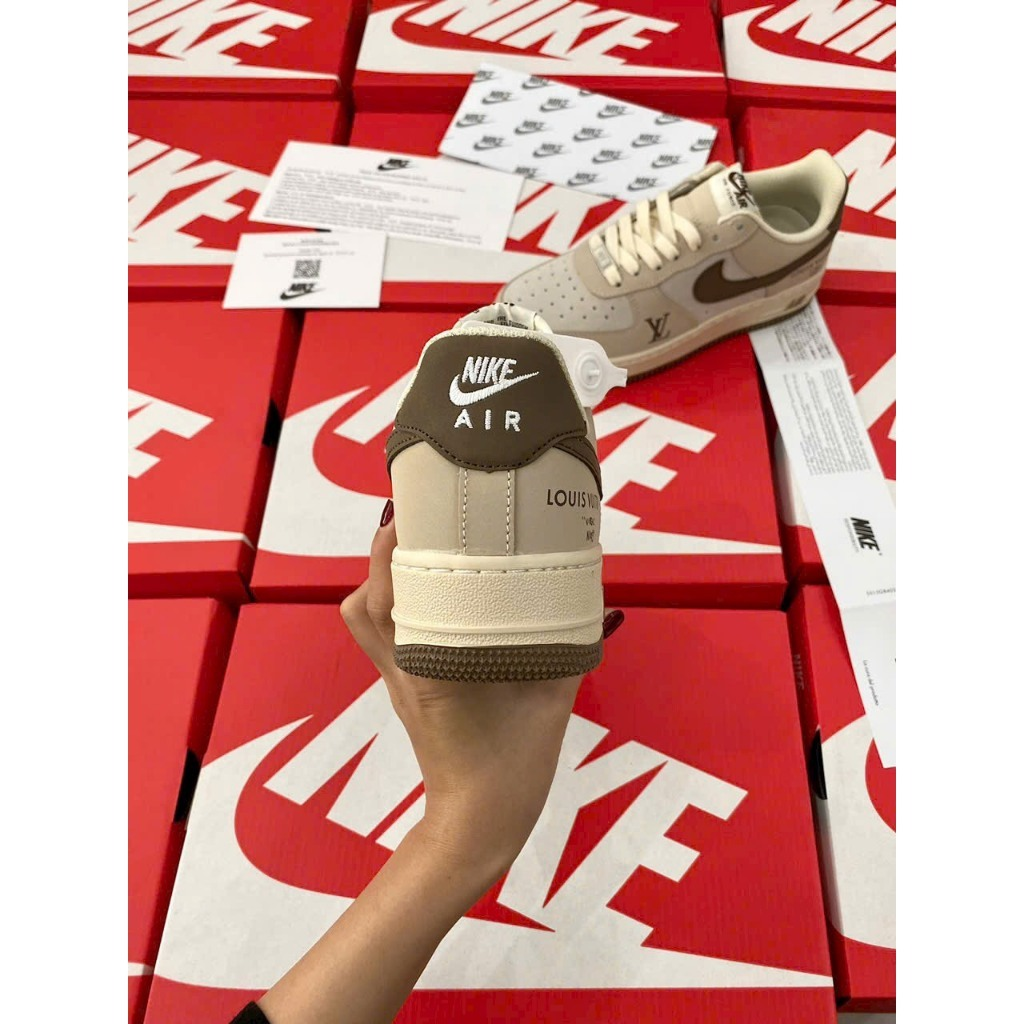sneakers: (497, 146, 848, 385), (386, 326, 608, 685)
